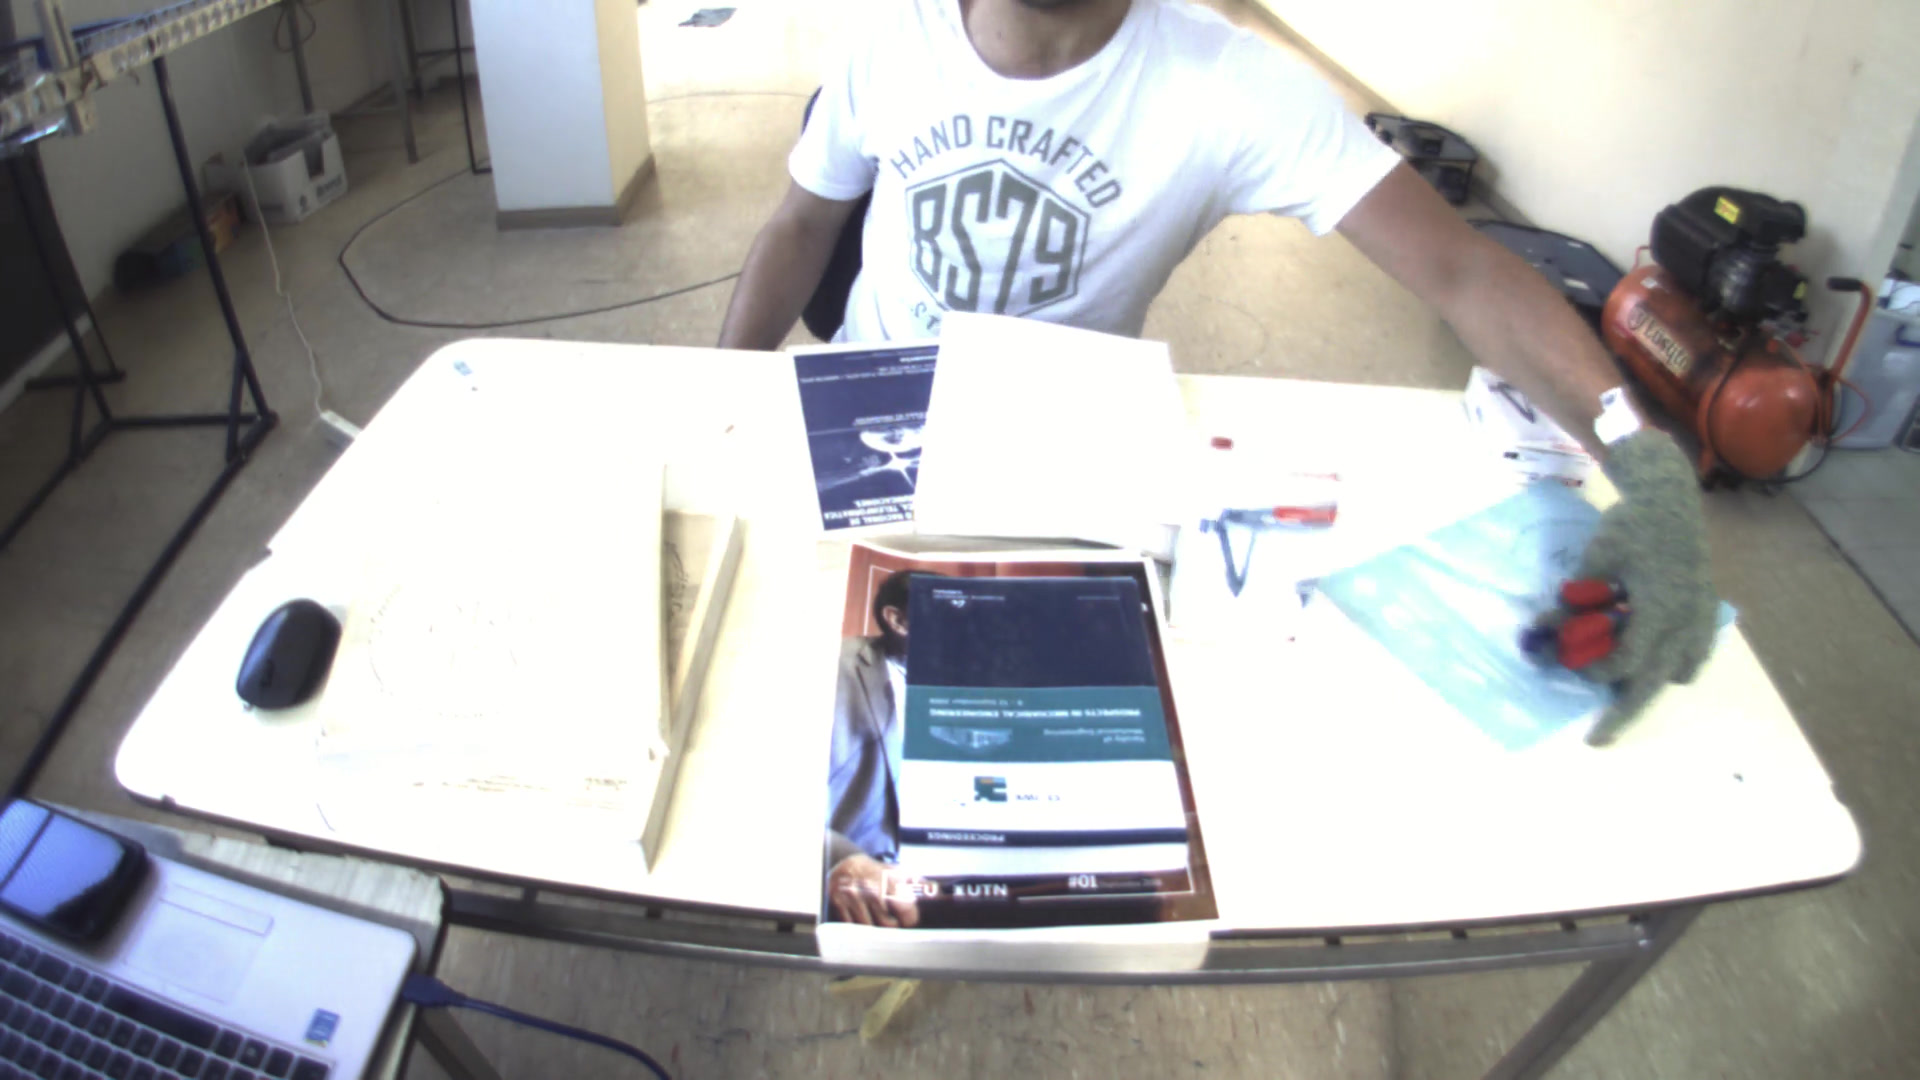hand: (1568, 419, 1724, 707)
